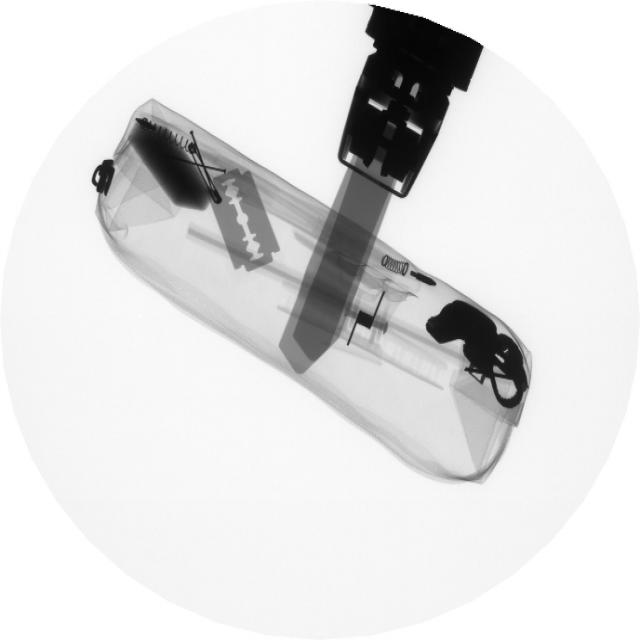BLADE: (206, 160, 285, 281)
